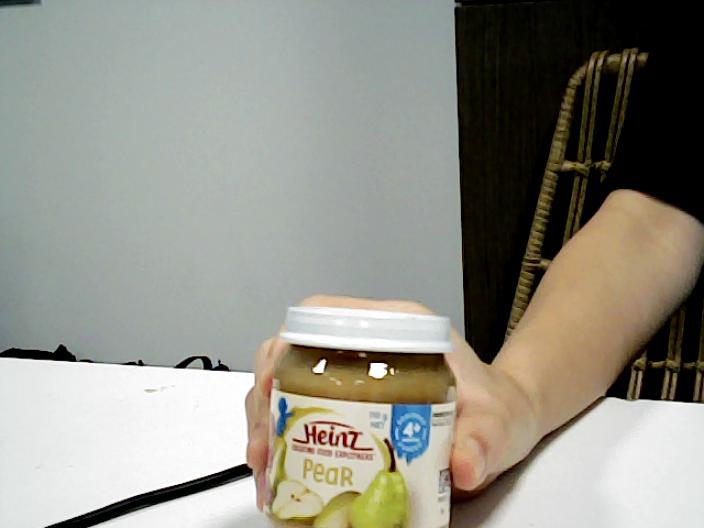Babyfood_100-199g_NonHalal_NonHealthy: (271, 355, 453, 528)
